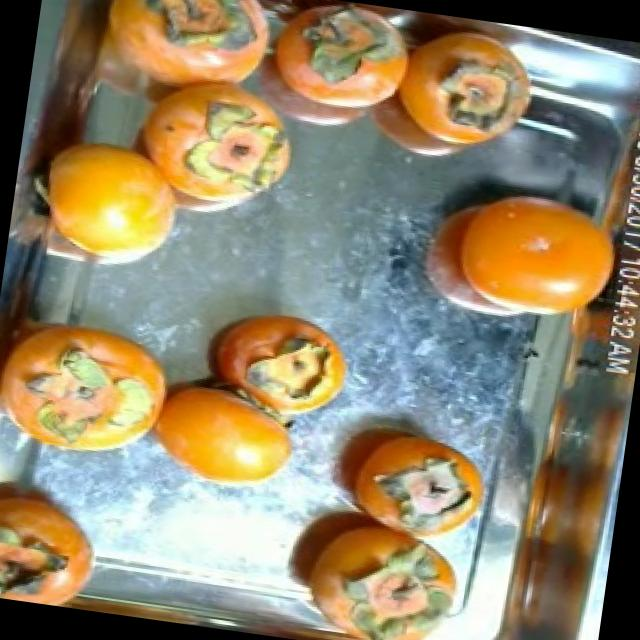Fruit: (408, 155, 640, 329), (122, 364, 320, 509), (192, 294, 371, 432), (0, 465, 119, 608)
